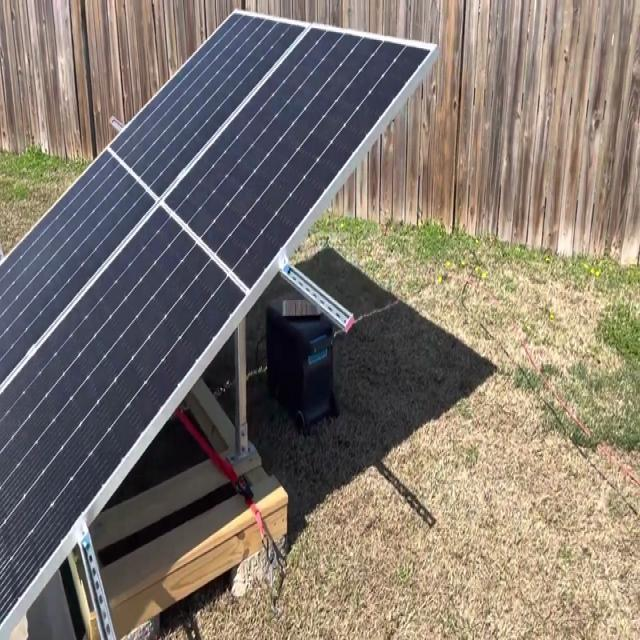Normal Solar Panel: (0, 13, 440, 631)
